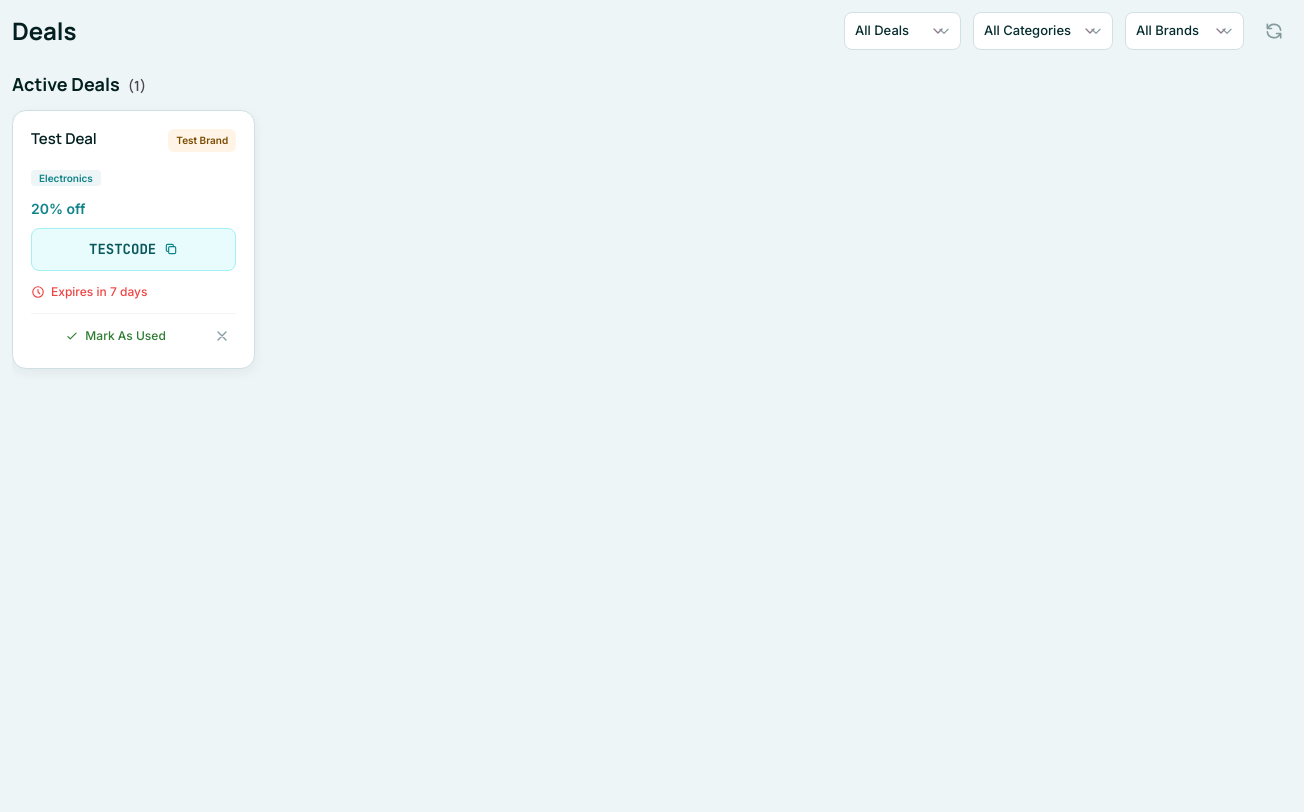
Used/Unused Toggle Feature › should move deal from Active to Used section when clicking "Used" button
This screenshot has width=1304, height=812.
Expected: the heading "Test Deal" is shown, [31,128,97,149]
Expected: the heading "Active Deals(1)" is shown, [12,72,146,96]
# Find and click the "Used" button
Click the button "Mark As Used".
click(116, 336)  # box [31,322,200,350]
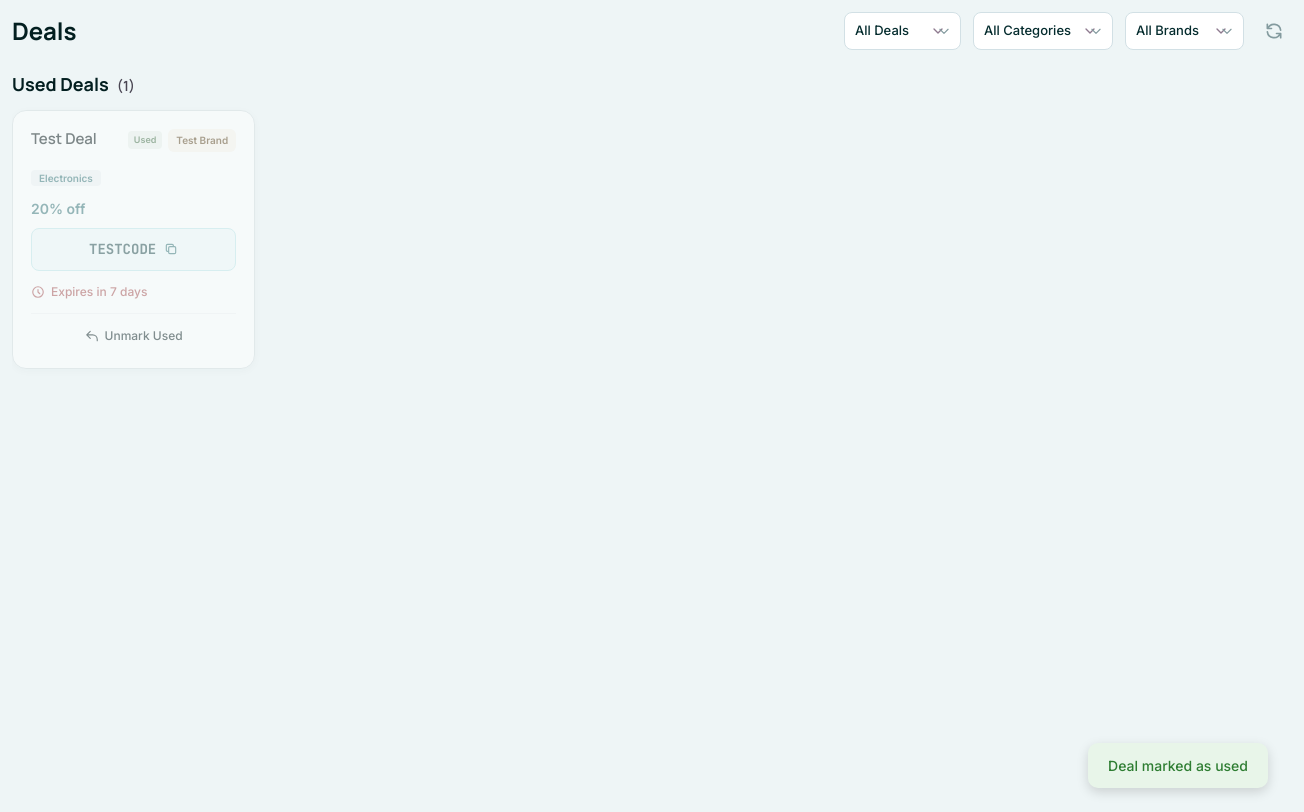
Now the heading "Used Deals(1)" is shown, box [12,72,135,96]
